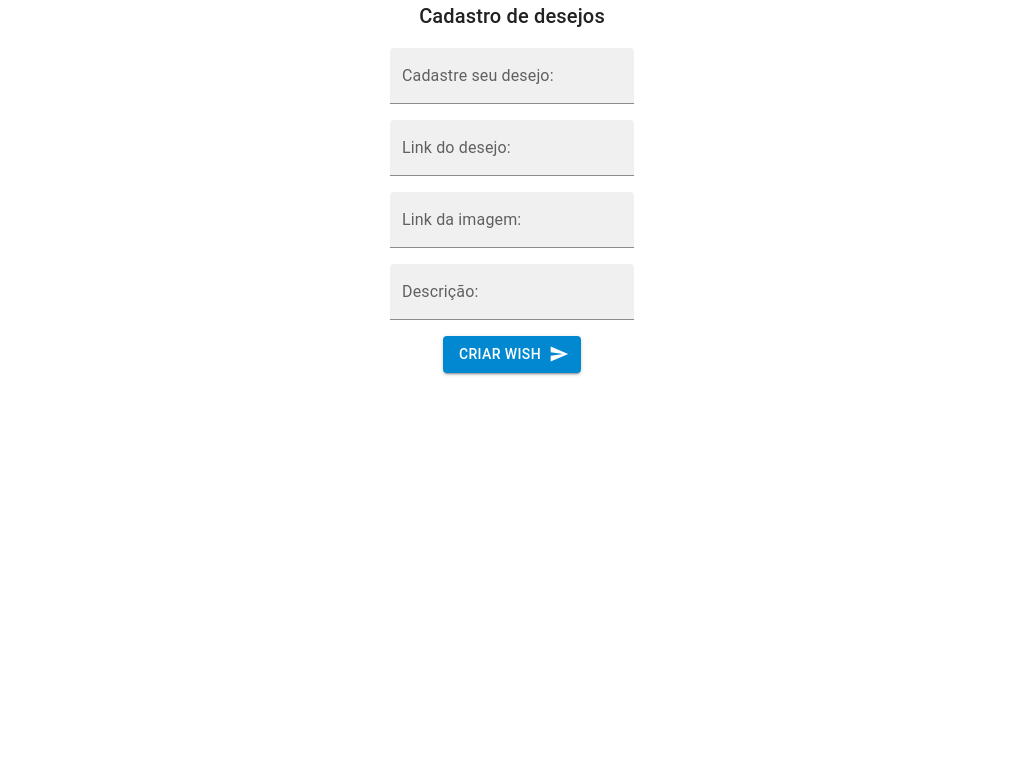
Test: admin page › should show error message when recieve empty some field empty
Type "Jogo de facas" into the field with placeholder "Ex: Jogo de facas" at [512, 76], box [390,48,634,104]
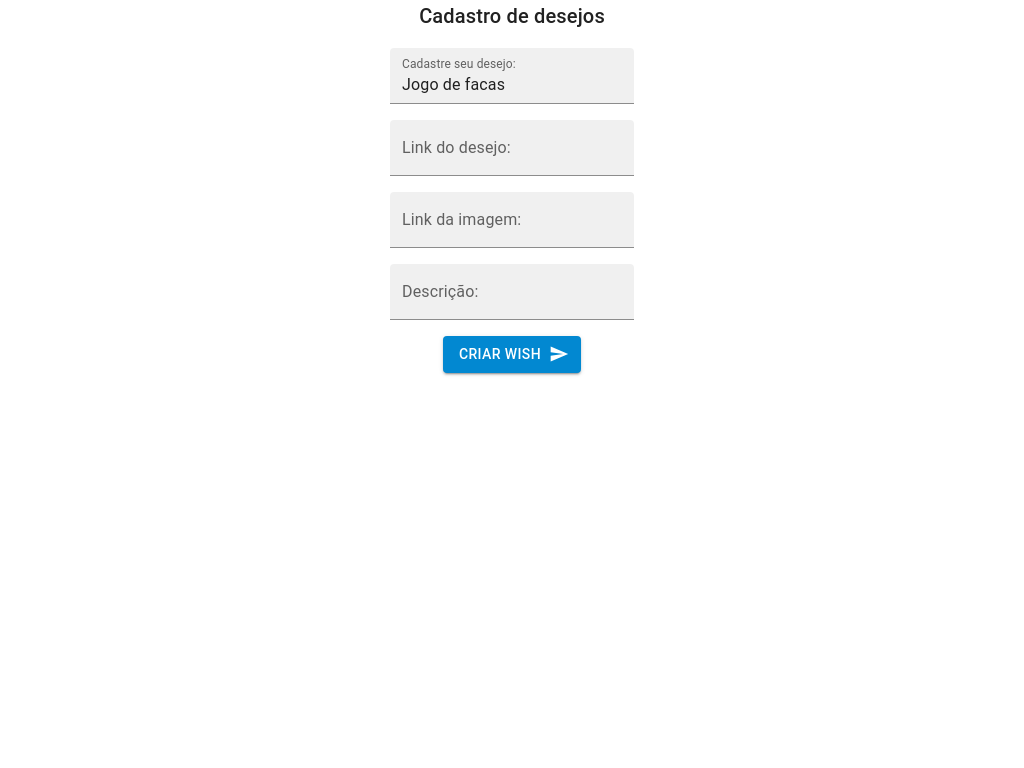
Click the button "Criar wish" at [512, 354], box [443,336,581,372]
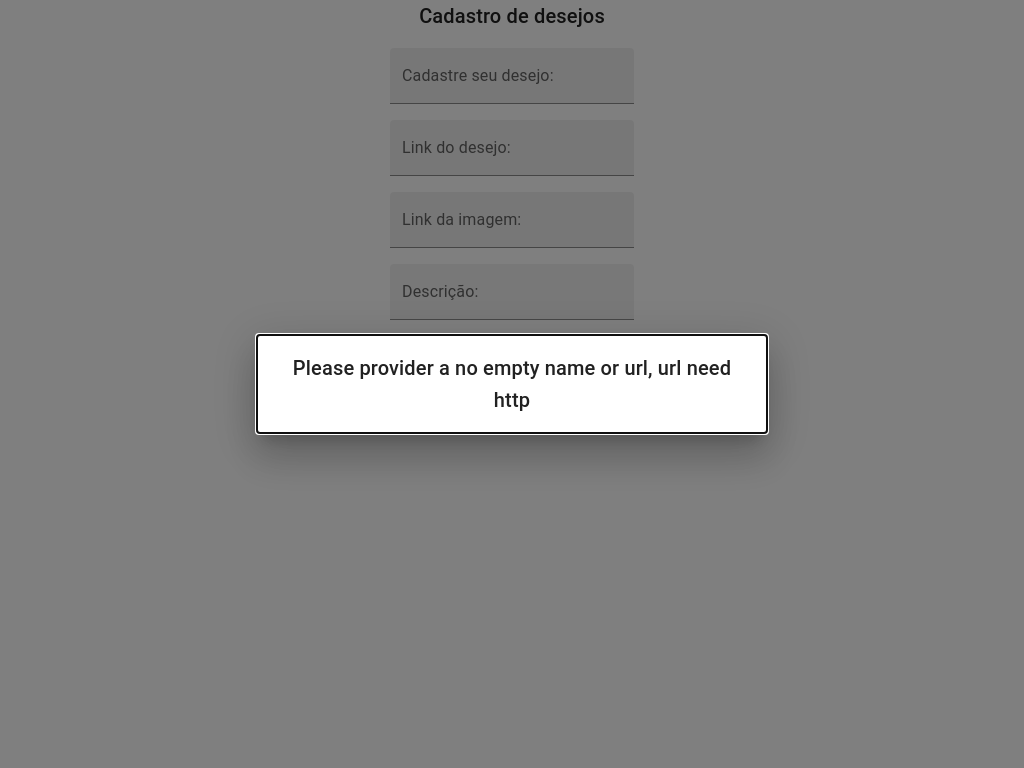
Expected: the heading "Please provider a no empty name or url, url need http" is shown, [274,352,750,416]
